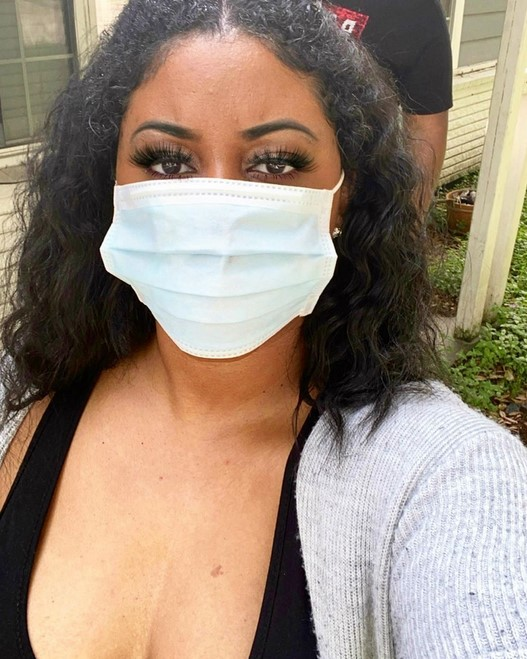face_with_mask: (88, 23, 376, 365)
